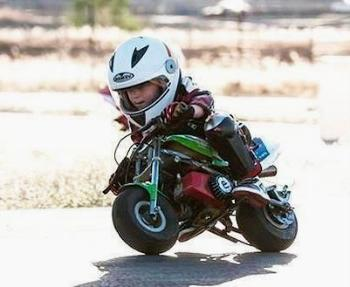With Helmet: (106, 26, 179, 126)
